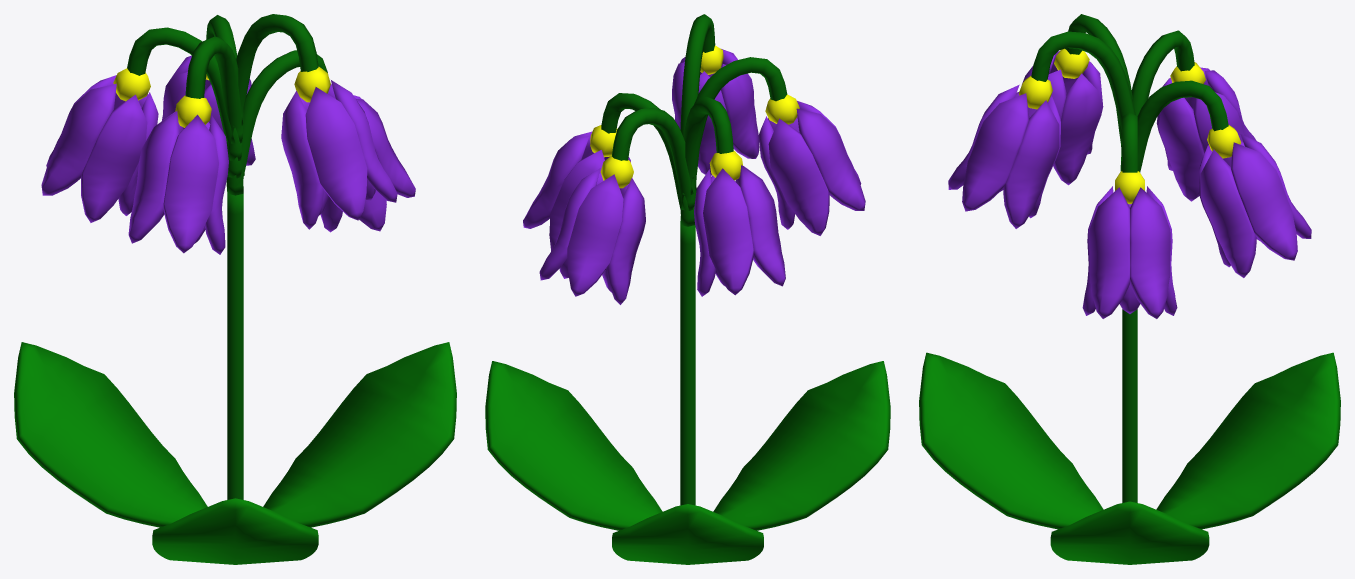
File: bluebells_0004.obj
3 renders of one model, left to right at view 1: azimuth 30°, elevation 25°; view 2: azimuth 150°, elevation 25°; view 3: azimuth 270°, elevation 25°, orthographic. The views are drawn at different scales.
Visible parts, largest first — view 1: bluebells_0004; view 2: bluebells_0004; view 3: bluebells_0004.
Boxes of the visible parts, x1=… form: bluebells_0004: x1=14, y1=14, x2=456, y2=564; bluebells_0004: x1=485, y1=14, x2=890, y2=564; bluebells_0004: x1=919, y1=14, x2=1340, y2=564.
Size of the model in its own units: 2.22 by 3.15 by 2.34.
Materials: 1 (1 with a texture image).
